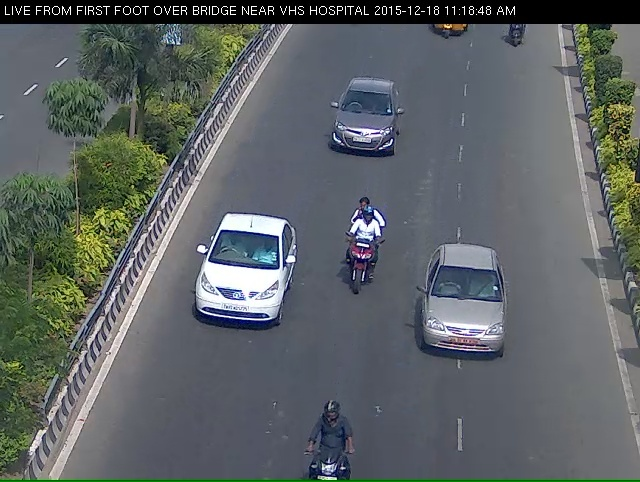Car: (185, 225, 290, 356), (414, 254, 513, 385), (322, 83, 397, 170)
Person: (337, 214, 382, 327), (502, 23, 530, 61)
